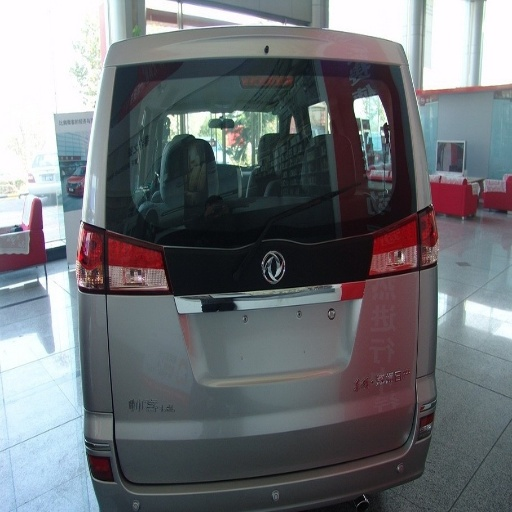_background_: (112, 264, 179, 294)
back_bumper: (85, 269, 445, 511), (81, 294, 112, 395)
tailgate: (218, 220, 377, 291)
